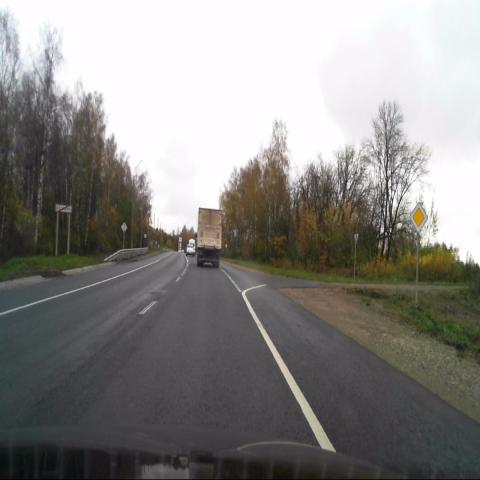2_1: (410, 201, 427, 232)
